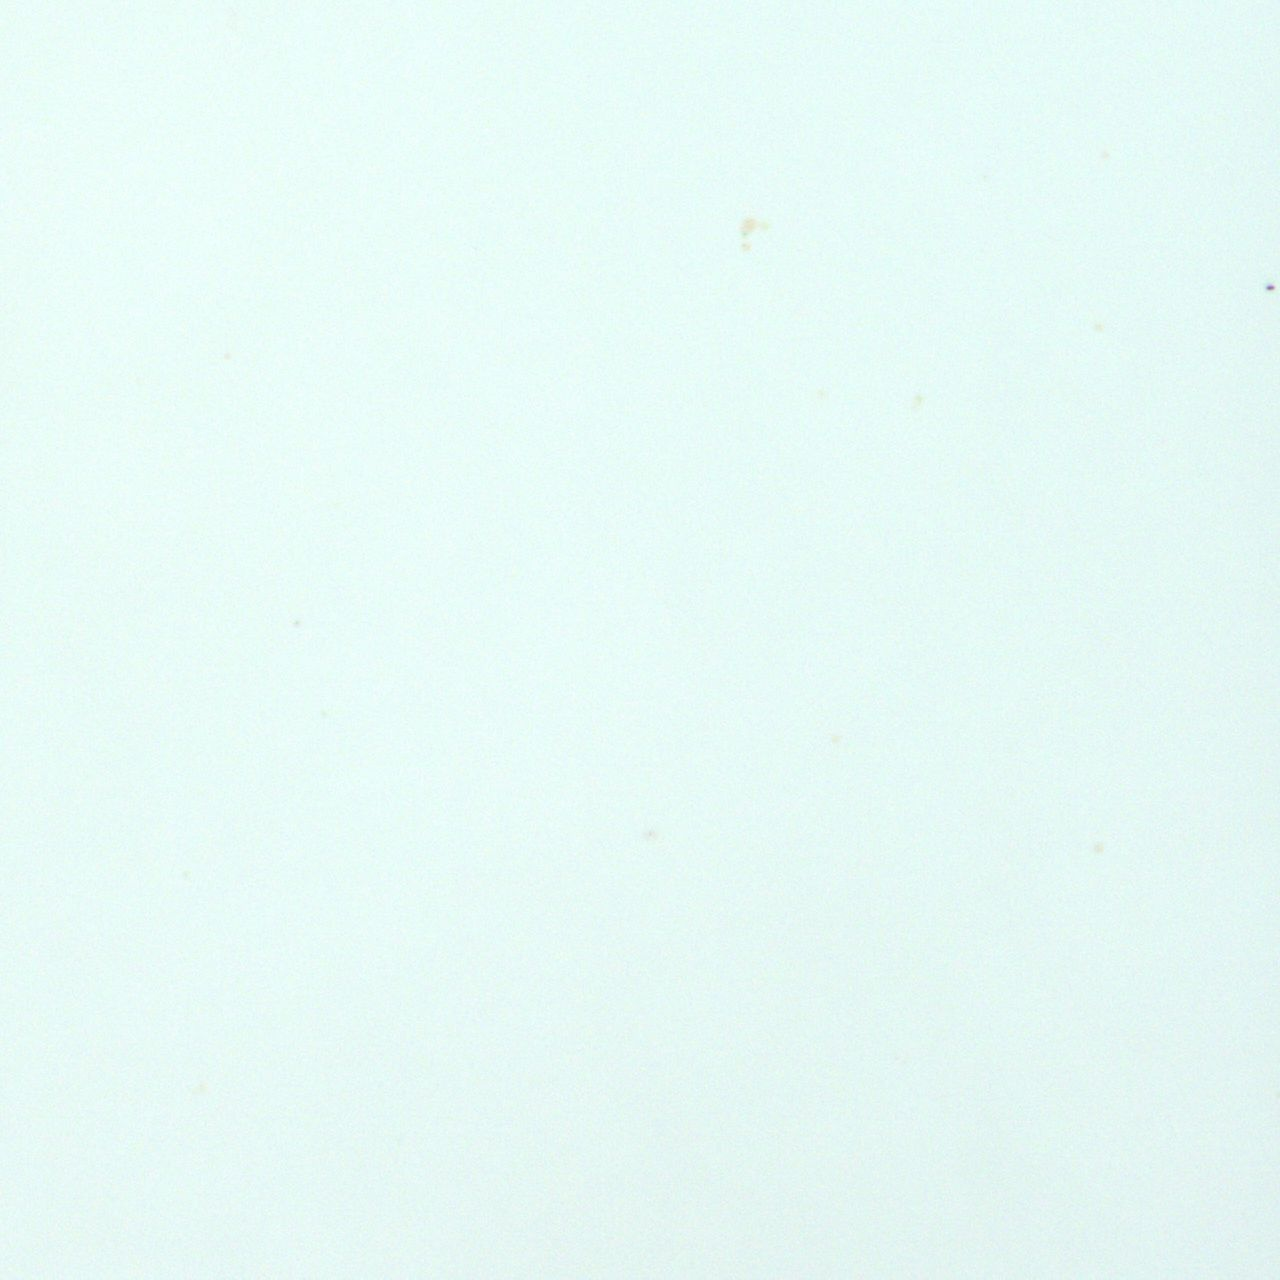dust: (1266, 285, 1276, 291)
